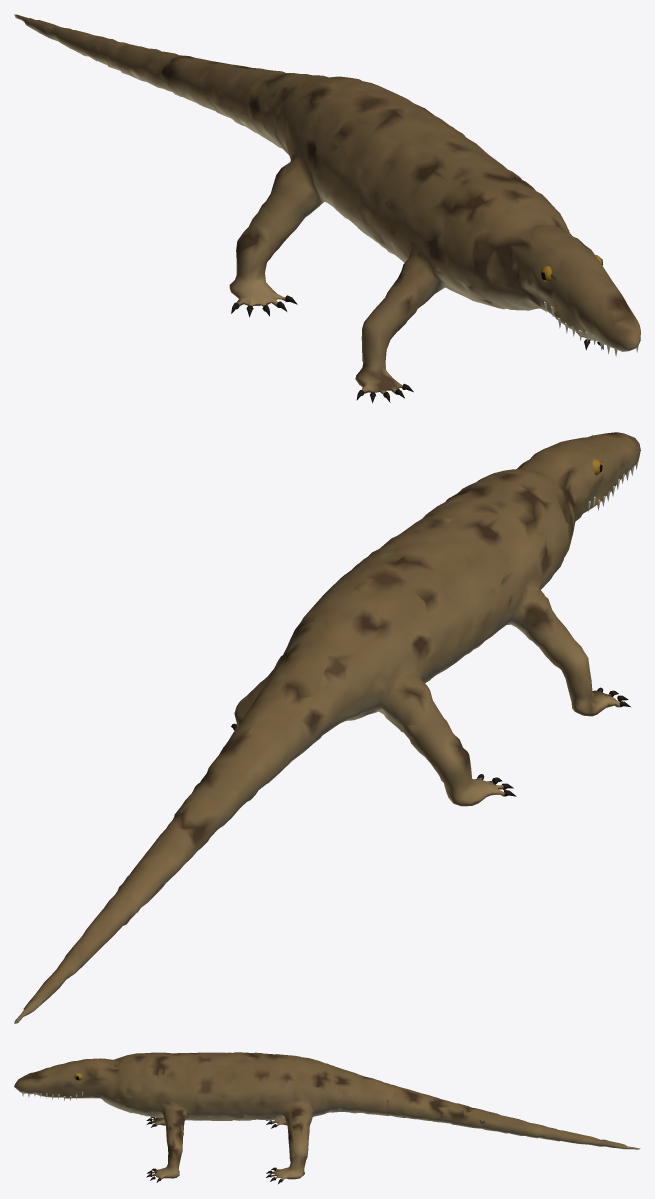
The model's file is Varanops.fbx.
3 views of the same model, one above another, from view 1: azimuth 30°, elevation 25°; view 2: azimuth 150°, elevation 25°; view 3: azimuth 270°, elevation 25° (orthographic). The views are drawn at different scales.
Visible parts, largest first — view 1: Varanops; view 2: Varanops; view 3: Varanops.
Boxes of the visible parts, left/top/right/bottom form: Varanops: left=14, top=14, right=640, bottom=403; Varanops: left=14, top=432, right=640, bottom=1023; Varanops: left=14, top=1052, right=640, bottom=1183.
Size of the model in its own units: 0.4848 by 0.3045 by 1.82.
